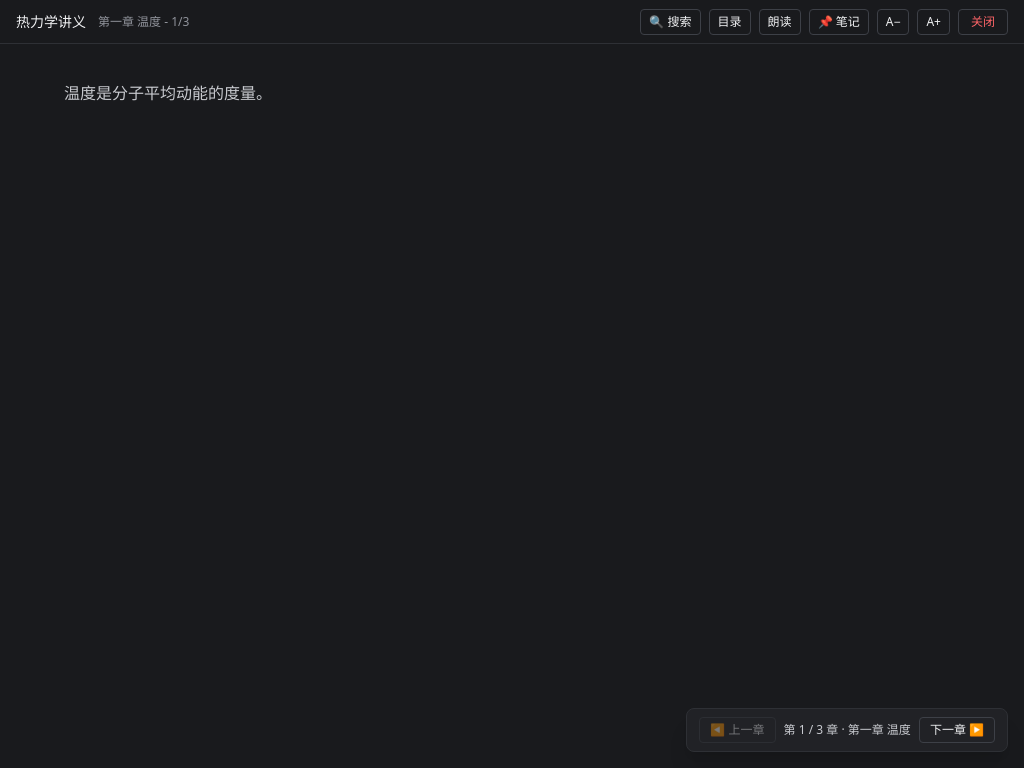
Test case: EpubReaderView — chapters and navigation › navigates via the TOC and closes it
The image size is (1024, 768).
expect the text "温度是分子平均动能的度量。" is shown: met, box [64,82,272,104]
Click the button "目录" at (730, 22), box [709,9,751,35]
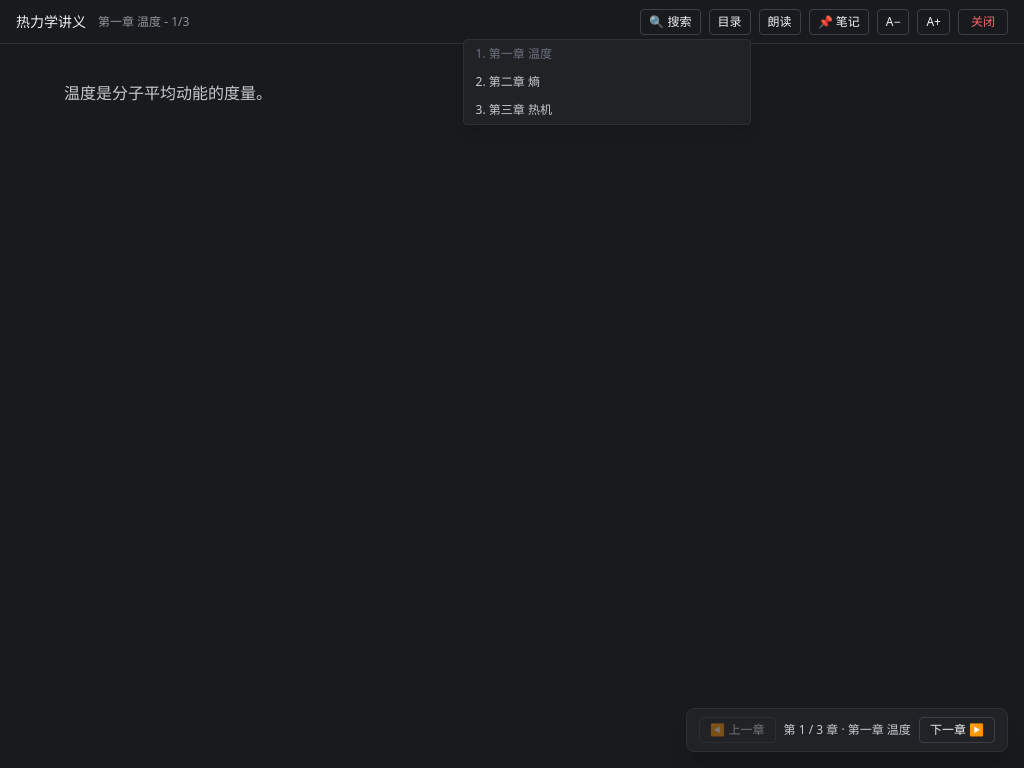
Click the button "3. 第三章 热机" at (520, 110), box [464,96,750,124]
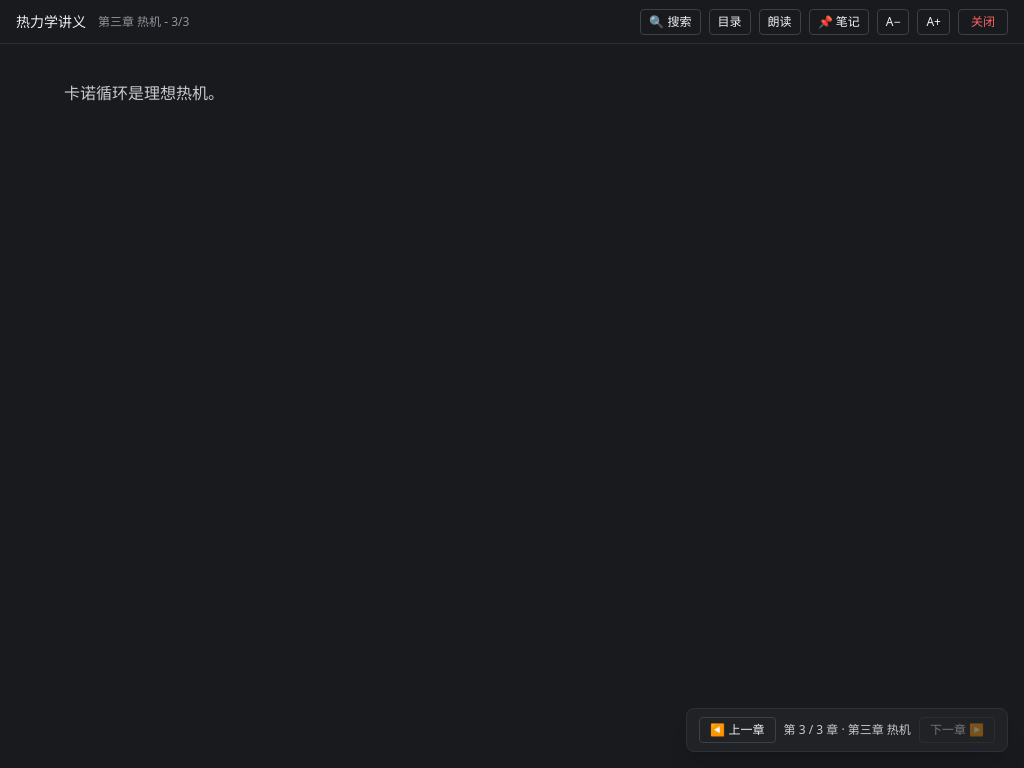
expect the text "卡诺循环是理想热机。" is shown: met, box [64,82,224,104]
expect the text "第三章 热机 - 3/3" is shown: met, box [98,14,190,30]
expect the button "3. 第三章 热机" is gone: met
